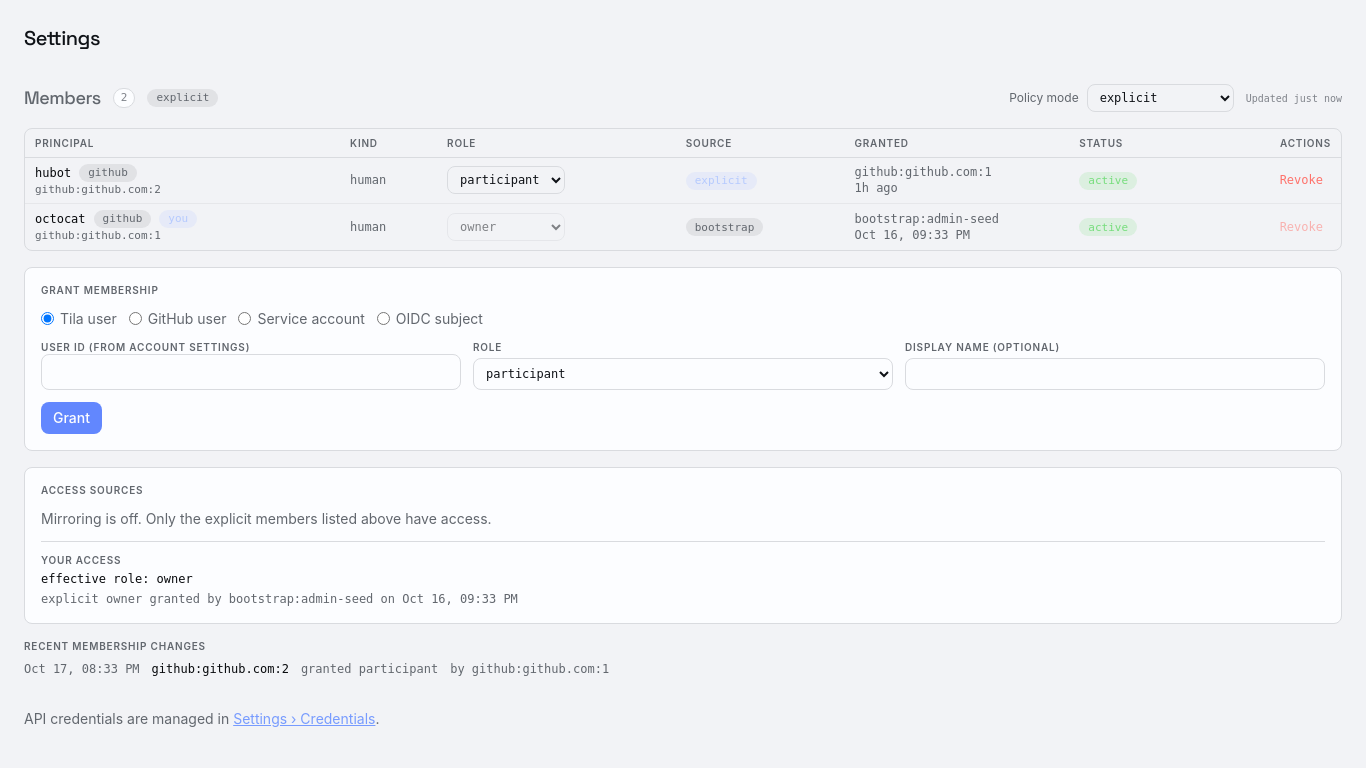
Test: SettingsPage › last-owner conflict surfaces the server message in the dialog
Click the button "Revoke" in the row of "hubot". click: (1301, 180)
box: [1272,168,1331,192]
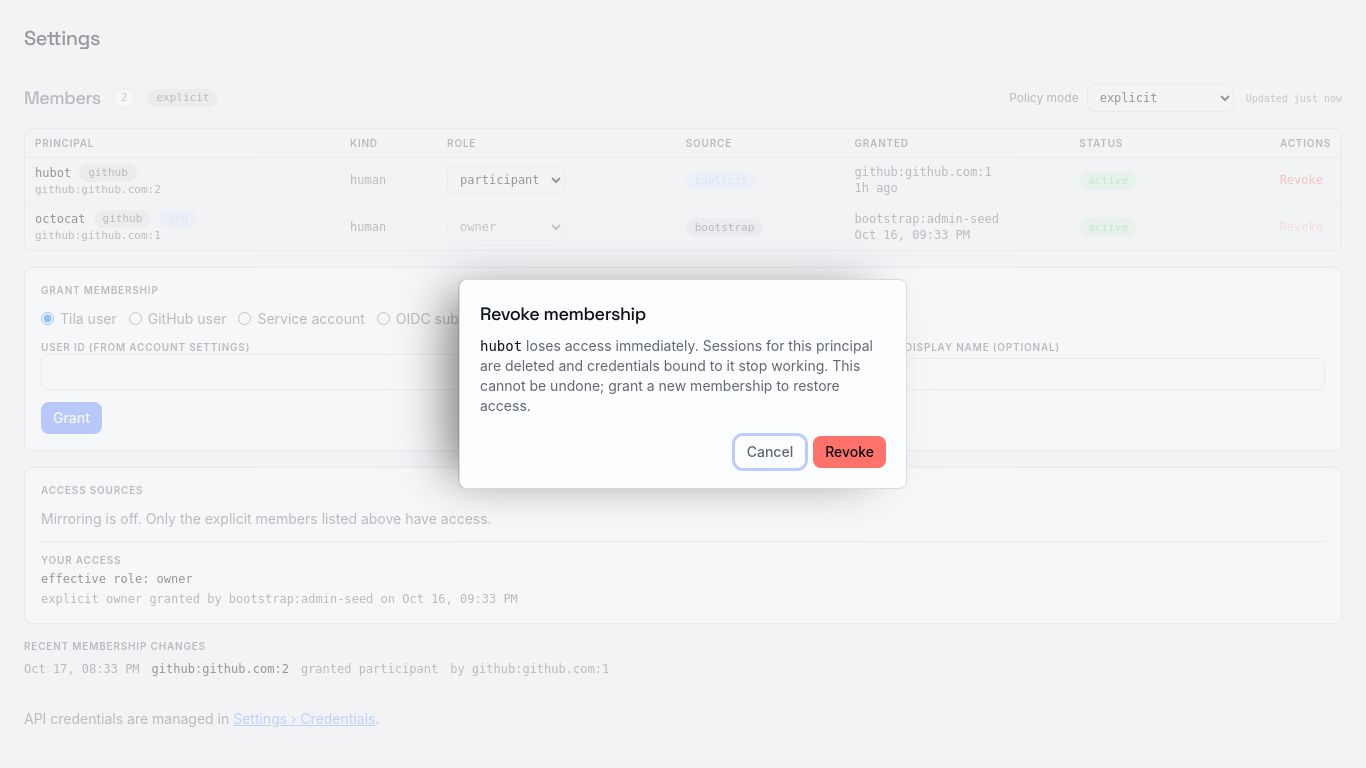
Click the button "Revoke". click: (850, 452)
box: [813,436,886,468]
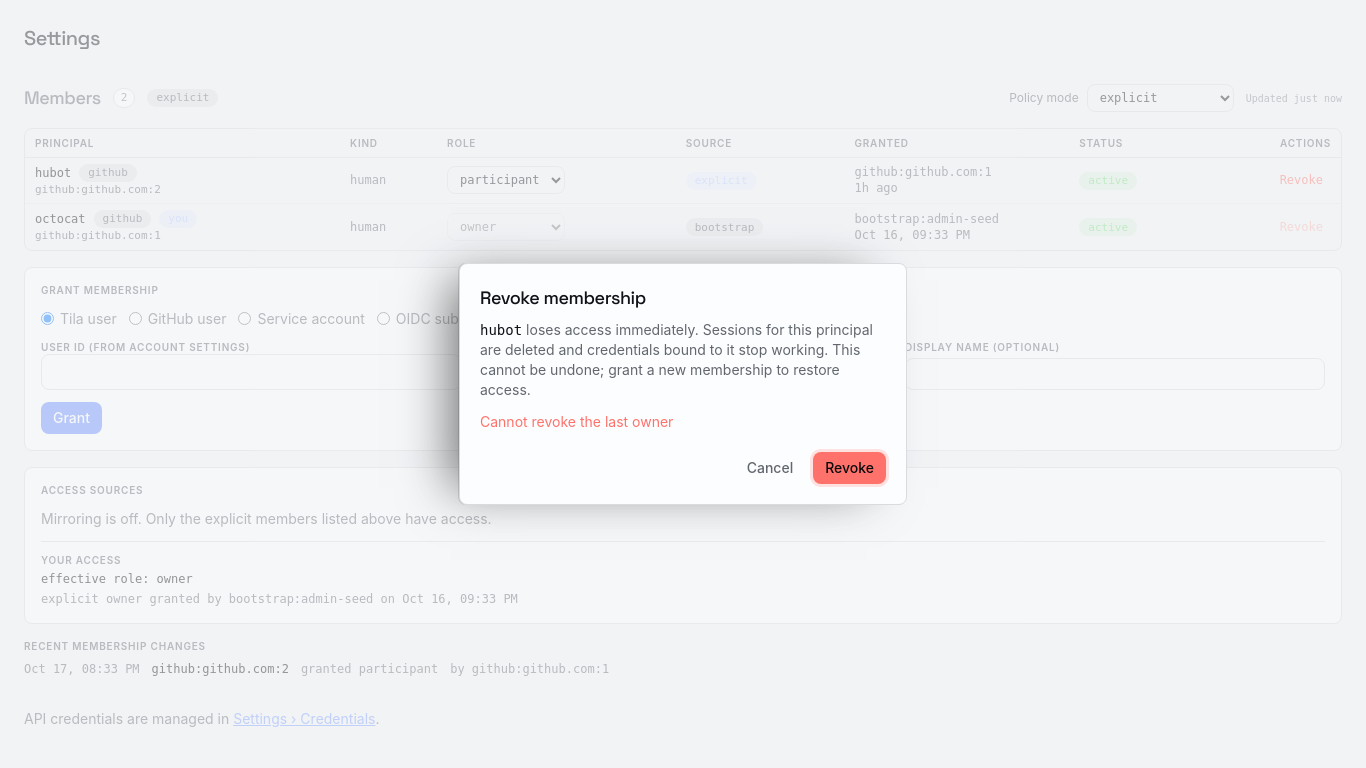
Now the message reads "Cannot revoke the last owner", box [480,413,673,430]
